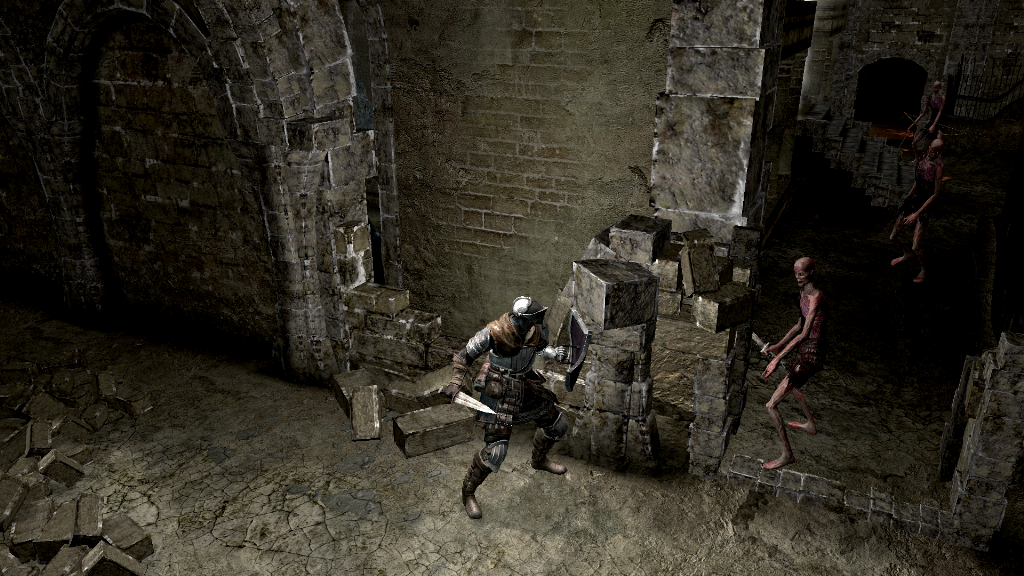hollow: (760, 256, 823, 469), (890, 139, 947, 284), (911, 79, 946, 164)
player: (437, 293, 593, 523)
